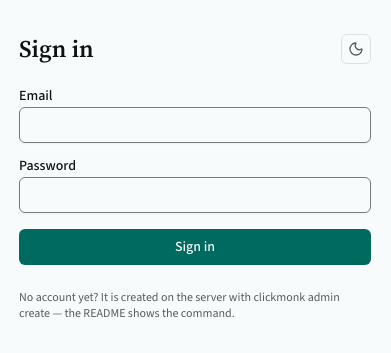
Scenario: the sign-in screen › says a wrong password is wrong, keeps the email and clears the password
Type "admin@example.com" into the field labelled "Email". click: (195, 125)
box: [19,107,371,143]
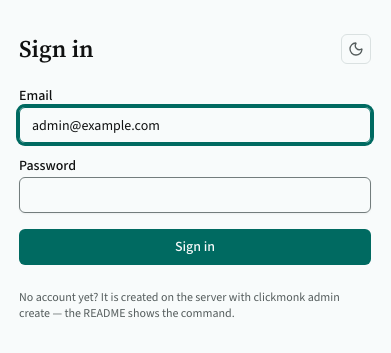
Type "a decent admin password" into the password field labelled "Password". click: (195, 195)
box: [19,177,371,213]
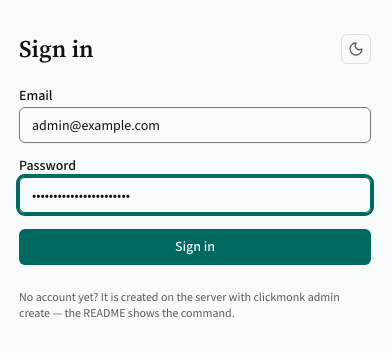
Click the button "Sign in". click: click(195, 247)
box: [19,229,371,265]
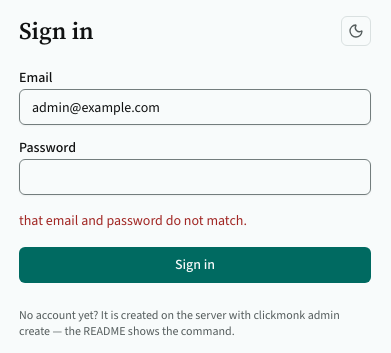
Expected: the message shows "that email and password do not match", [19,211,247,230]
Expected: the password field labelled "Password" is empty, [19,159,371,195]
